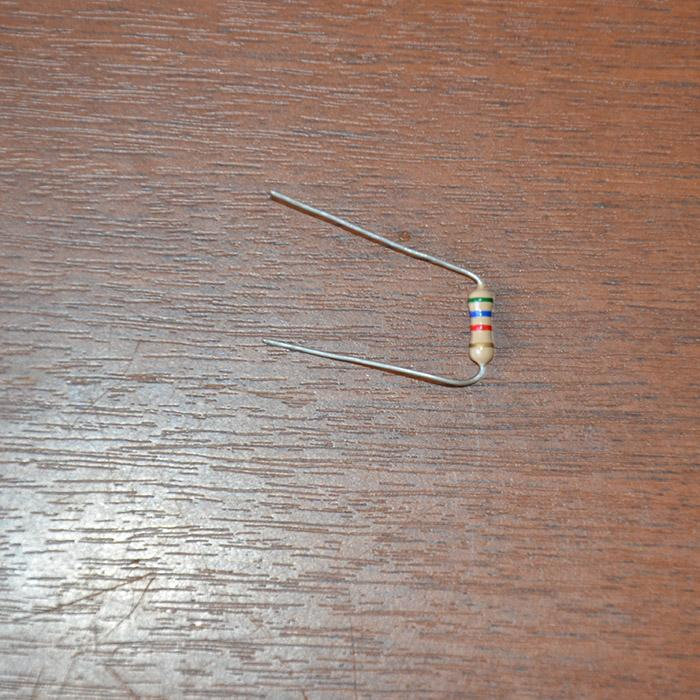resistor: (466, 285, 496, 365)
